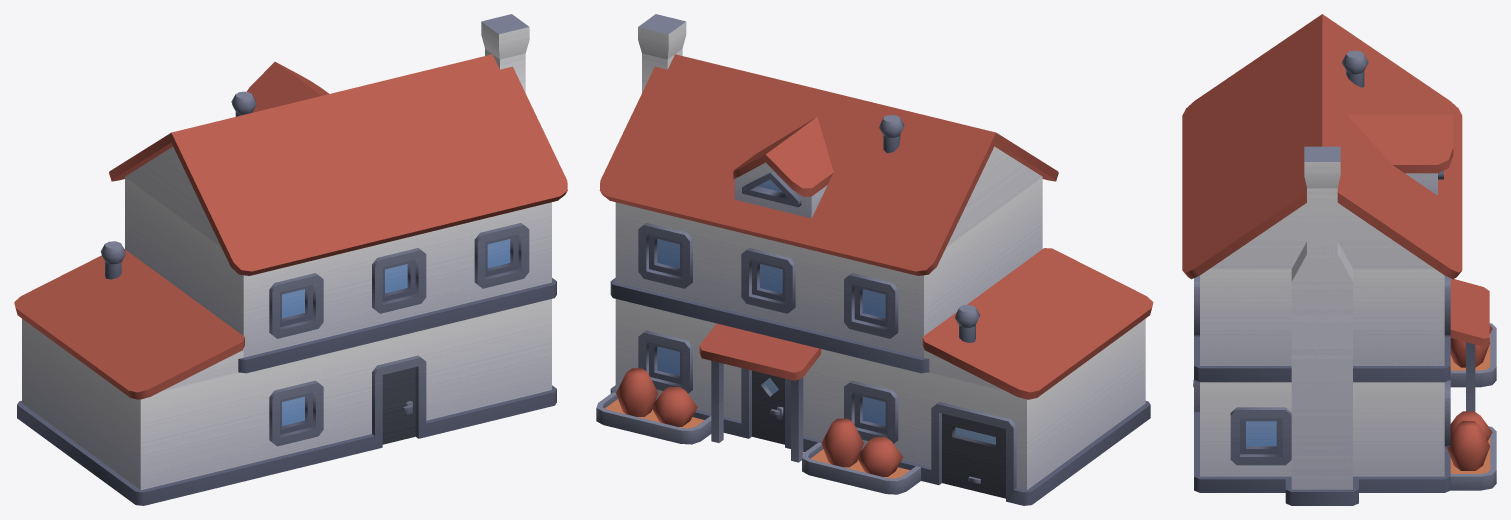
Rendered from house-d-red.glb.
3 renders of one model, left to right at view 1: azimuth 30°, elevation 25°; view 2: azimuth 150°, elevation 25°; view 3: azimuth 270°, elevation 25°, orthographic. The views are drawn at different scales.
Visible parts, largest first — view 1: building-type-d; view 2: building-type-d; view 3: building-type-d.
Boxes of the visible parts, x1,y1,x2,y2 form: building-type-d: [14, 14, 567, 505]; building-type-d: [596, 14, 1153, 505]; building-type-d: [1182, 14, 1496, 505].
Bounding box in the file's own units: 1.76 × 1.24 × 1.03.
Materials: 2 (1 with a texture image).
